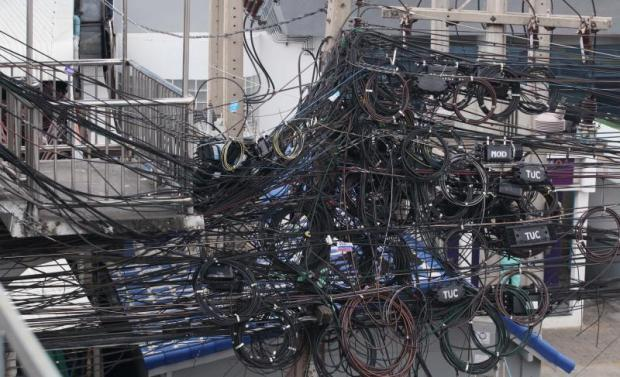wires-only: (337, 26, 620, 242), (195, 136, 332, 377)
